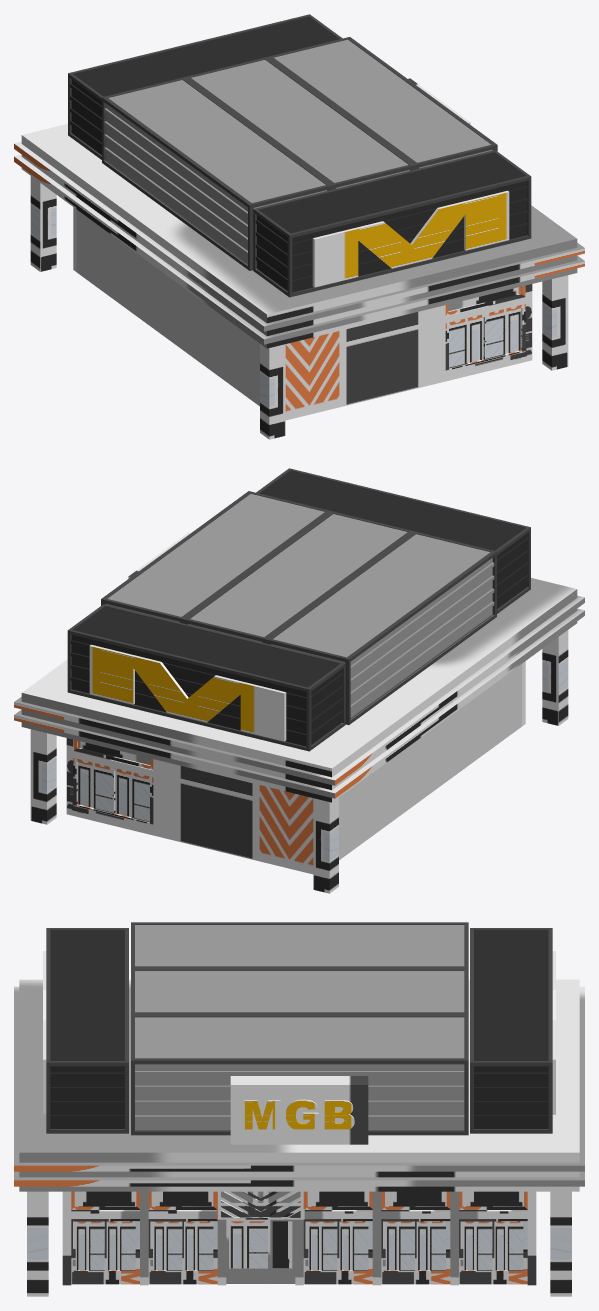
3 renders of one model, top to bottom at view 1: azimuth 30°, elevation 25°; view 2: azimuth 150°, elevation 25°; view 3: azimuth 270°, elevation 25°, orthographic. The views are drawn at different scales.
Parts seen in each view (by area): view 1: 貨櫃箱, 屋頂, 左側牆, 造型牆.002, 室內地板.002; view 2: 貨櫃箱, 屋頂, 右側牆, 造型牆.002, 室內地板.002; view 3: 貨櫃箱, 屋頂, 正門指示牌.004, 正門口, 正門指示牌.001, 右側牆, 左側牆.
Boxes of the visible parts, x1,y1,x2,y2 form: 貨櫃箱: (68,14,531,297); 屋頂: (14,78,584,439); 左側牆: (285,284,532,420); 造型牆.002: (128,248,259,406); 室內地板.002: (77,210,128,309); 貨櫃箱: (67,468,530,751); 屋頂: (14,532,584,893); 右側牆: (66,738,313,874); 造型牆.002: (373,664,521,834); 室內地板.002: (339,773,373,860); 貨櫃箱: (46,922,552,1135); 屋頂: (14,951,584,1296); 正門指示牌.004: (71,1191,527,1285); 正門口: (226,1219,270,1283); 正門指示牌.001: (270,1219,295,1283); 右側牆: (527,1191,536,1285); 左側牆: (62,1191,71,1285).
Bounding box in the file's own units: 1966 × 1142 × 2651.
